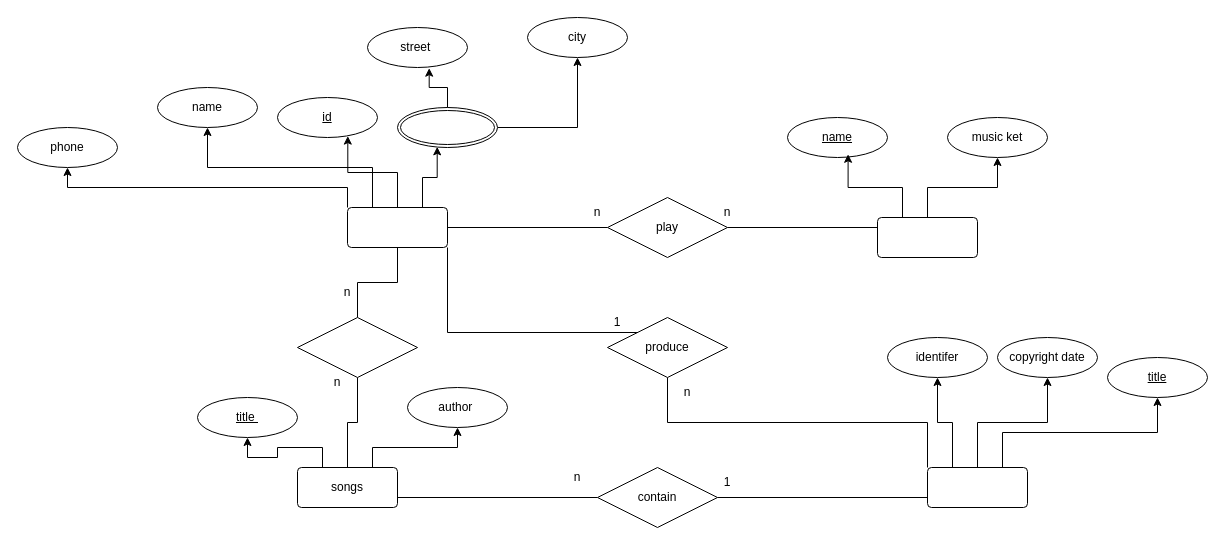
This 1225x545 diagram has some shape labels left out. The centre of each missing label's shape, as x and y in pixels:
"address" belongs at [447,127].
"album" belongs at [977,487].
"instrument" belongs at [927,237].
"musician" belongs at [397,227].
"perform" belongs at [357,347].
